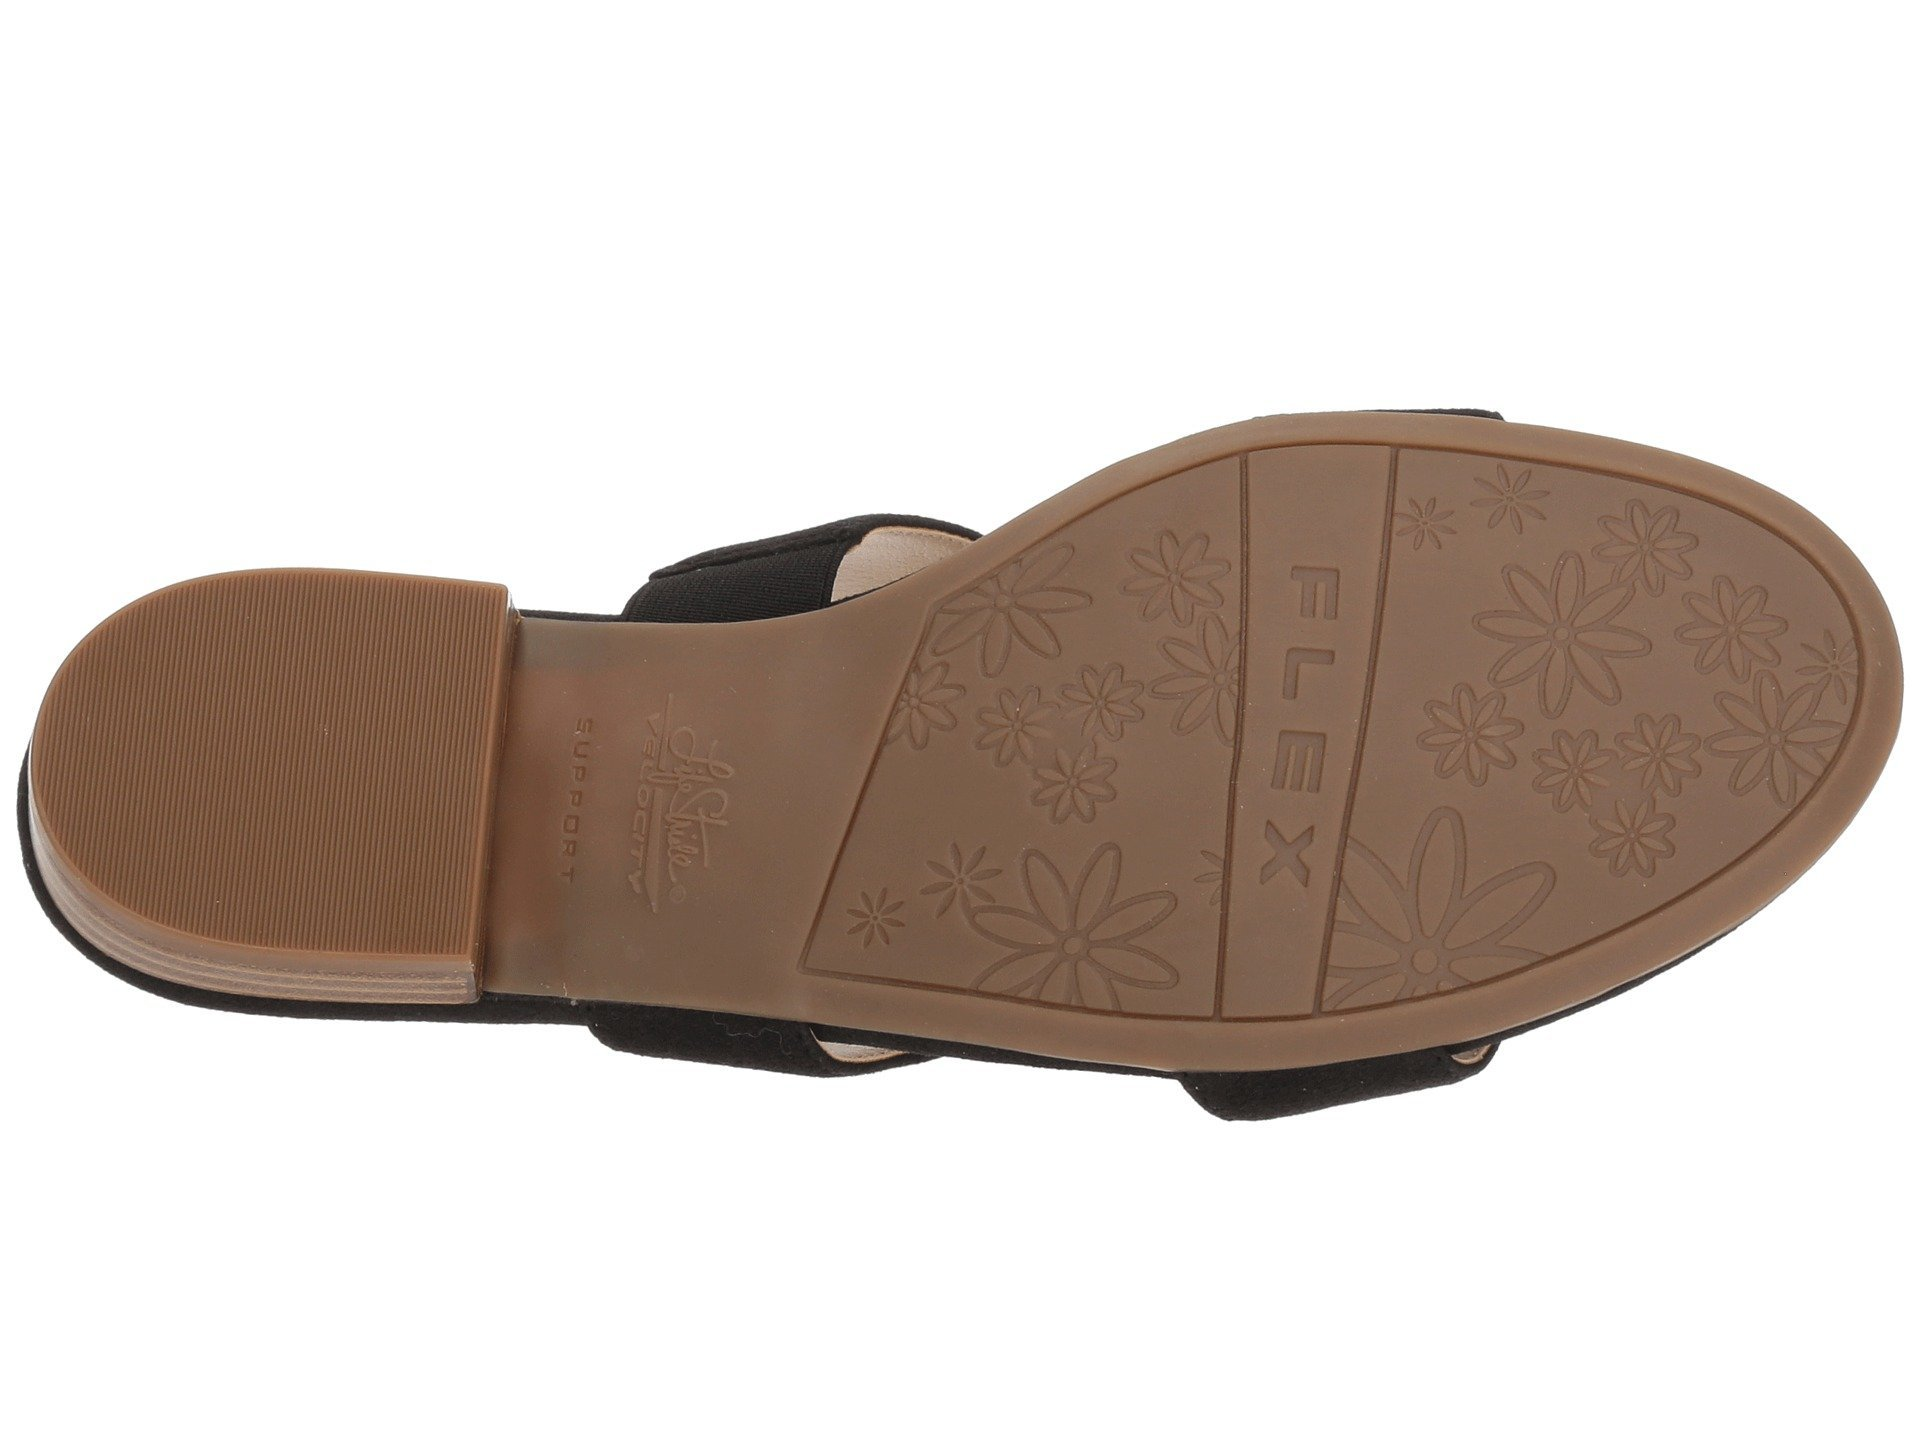circle: (1457, 511, 1760, 852), (949, 619, 1185, 970)
star: (1457, 511, 1760, 852), (949, 619, 1185, 970)
text: (1253, 532, 1367, 911)
